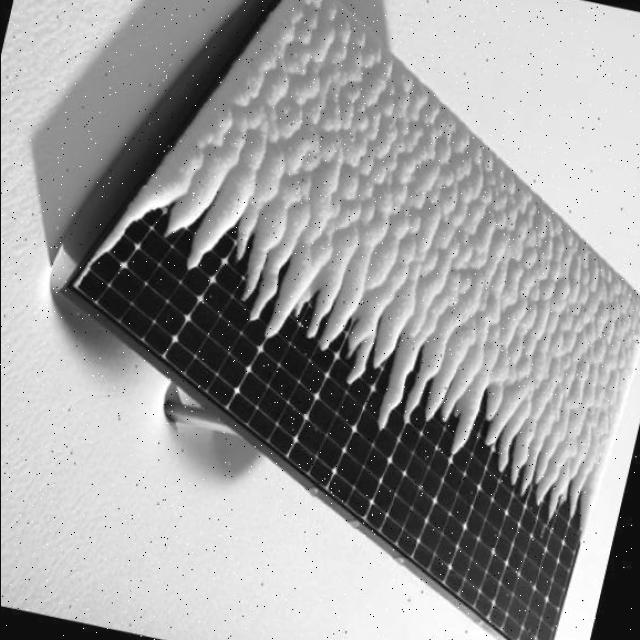Anomaly Solar Panel: (54, 0, 640, 640)
Snow: (72, 0, 640, 547)
